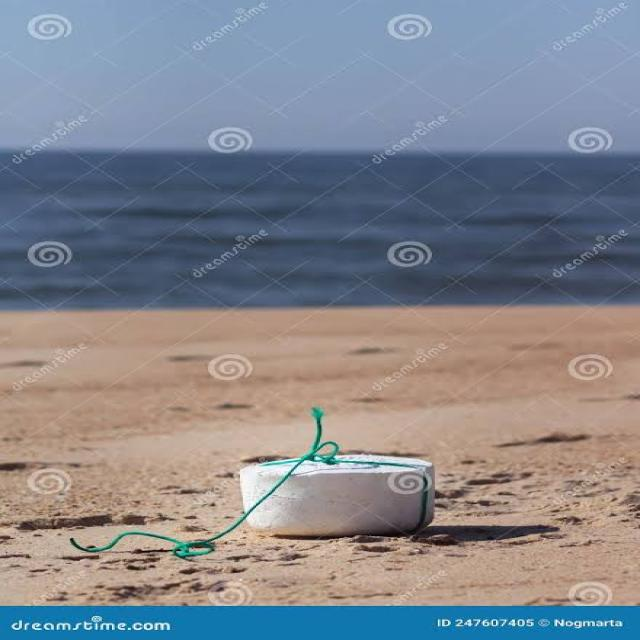styrofoam: (210, 425, 459, 540)
